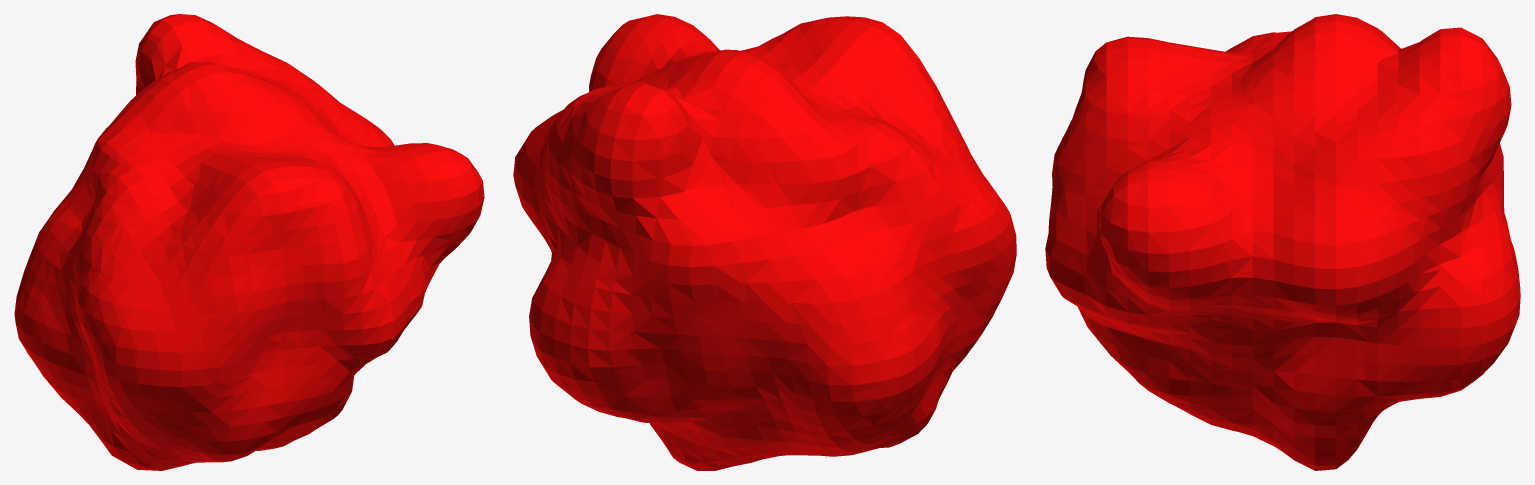
File: ubiG_coarse.dae
3 views of the same model, side by side, from view 1: azimuth 30°, elevation 25°; view 2: azimuth 150°, elevation 25°; view 3: azimuth 270°, elevation 25° (orthographic). The views are drawn at different scales.
Visible parts, largest first — view 1: ubiG; view 2: ubiG; view 3: ubiG.
Part boxes in pixels (x1,y1,x2,y2): ubiG: [14, 14, 484, 470]; ubiG: [513, 14, 1016, 470]; ubiG: [1045, 14, 1520, 470].
Size of the model in its own units: 46.25 by 45.41 by 45.31.
